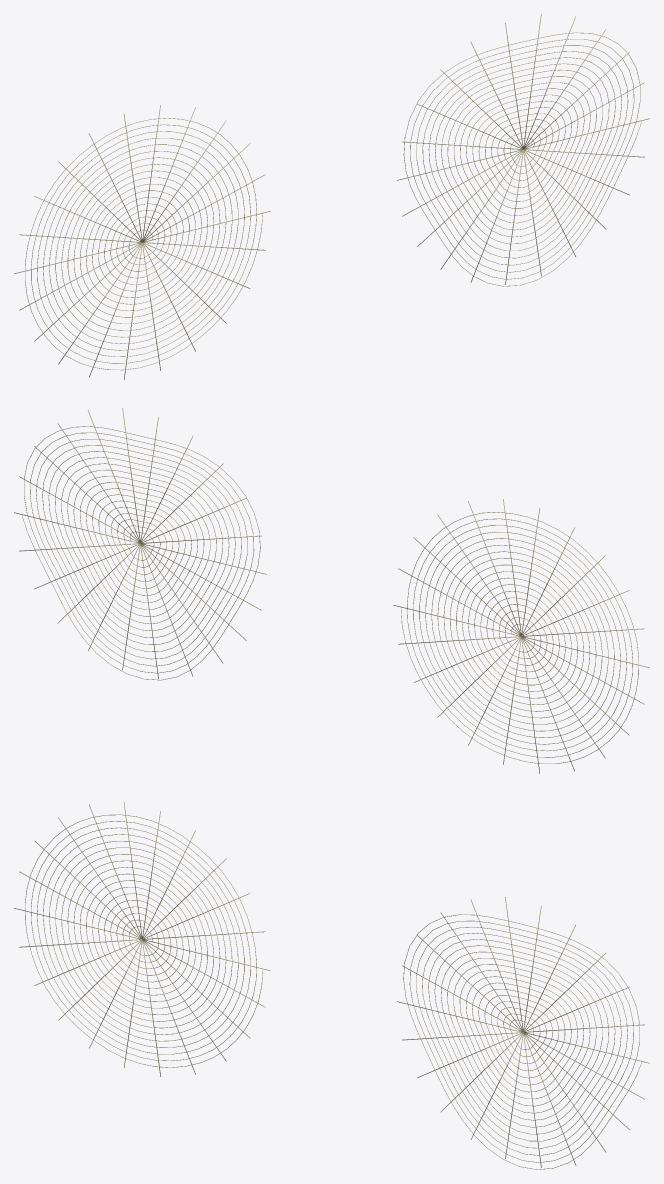
3 views of the same model, one above another, from view 1: azimuth 30°, elevation 25°; view 2: azimuth 150°, elevation 25°; view 3: azimuth 330°, elevation 25° (orthographic).
Parts seen in each view (by area): view 1: B16_SPEC_Silk_export; view 2: B16_SPEC_Silk_export; view 3: B16_SPEC_Silk_export.
Part boxes in pixels (<box>): B16_SPEC_Silk_export: <box>14,14,649,379</box>; B16_SPEC_Silk_export: <box>14,408,649,773</box>; B16_SPEC_Silk_export: <box>14,802,649,1169</box>.
Size of the model in its own units: 3.47 by 1.4 by 0.00628.
